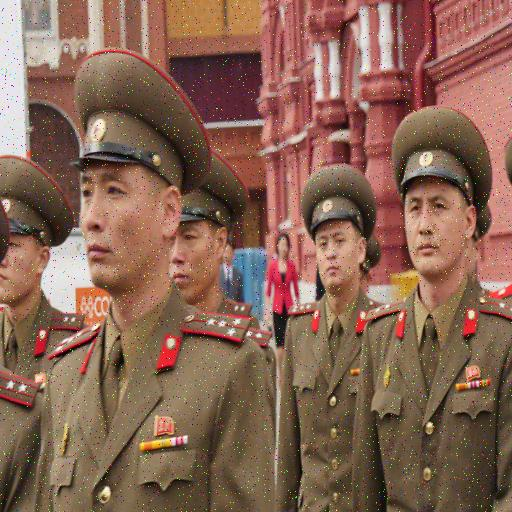north army: (2, 42, 512, 512)
